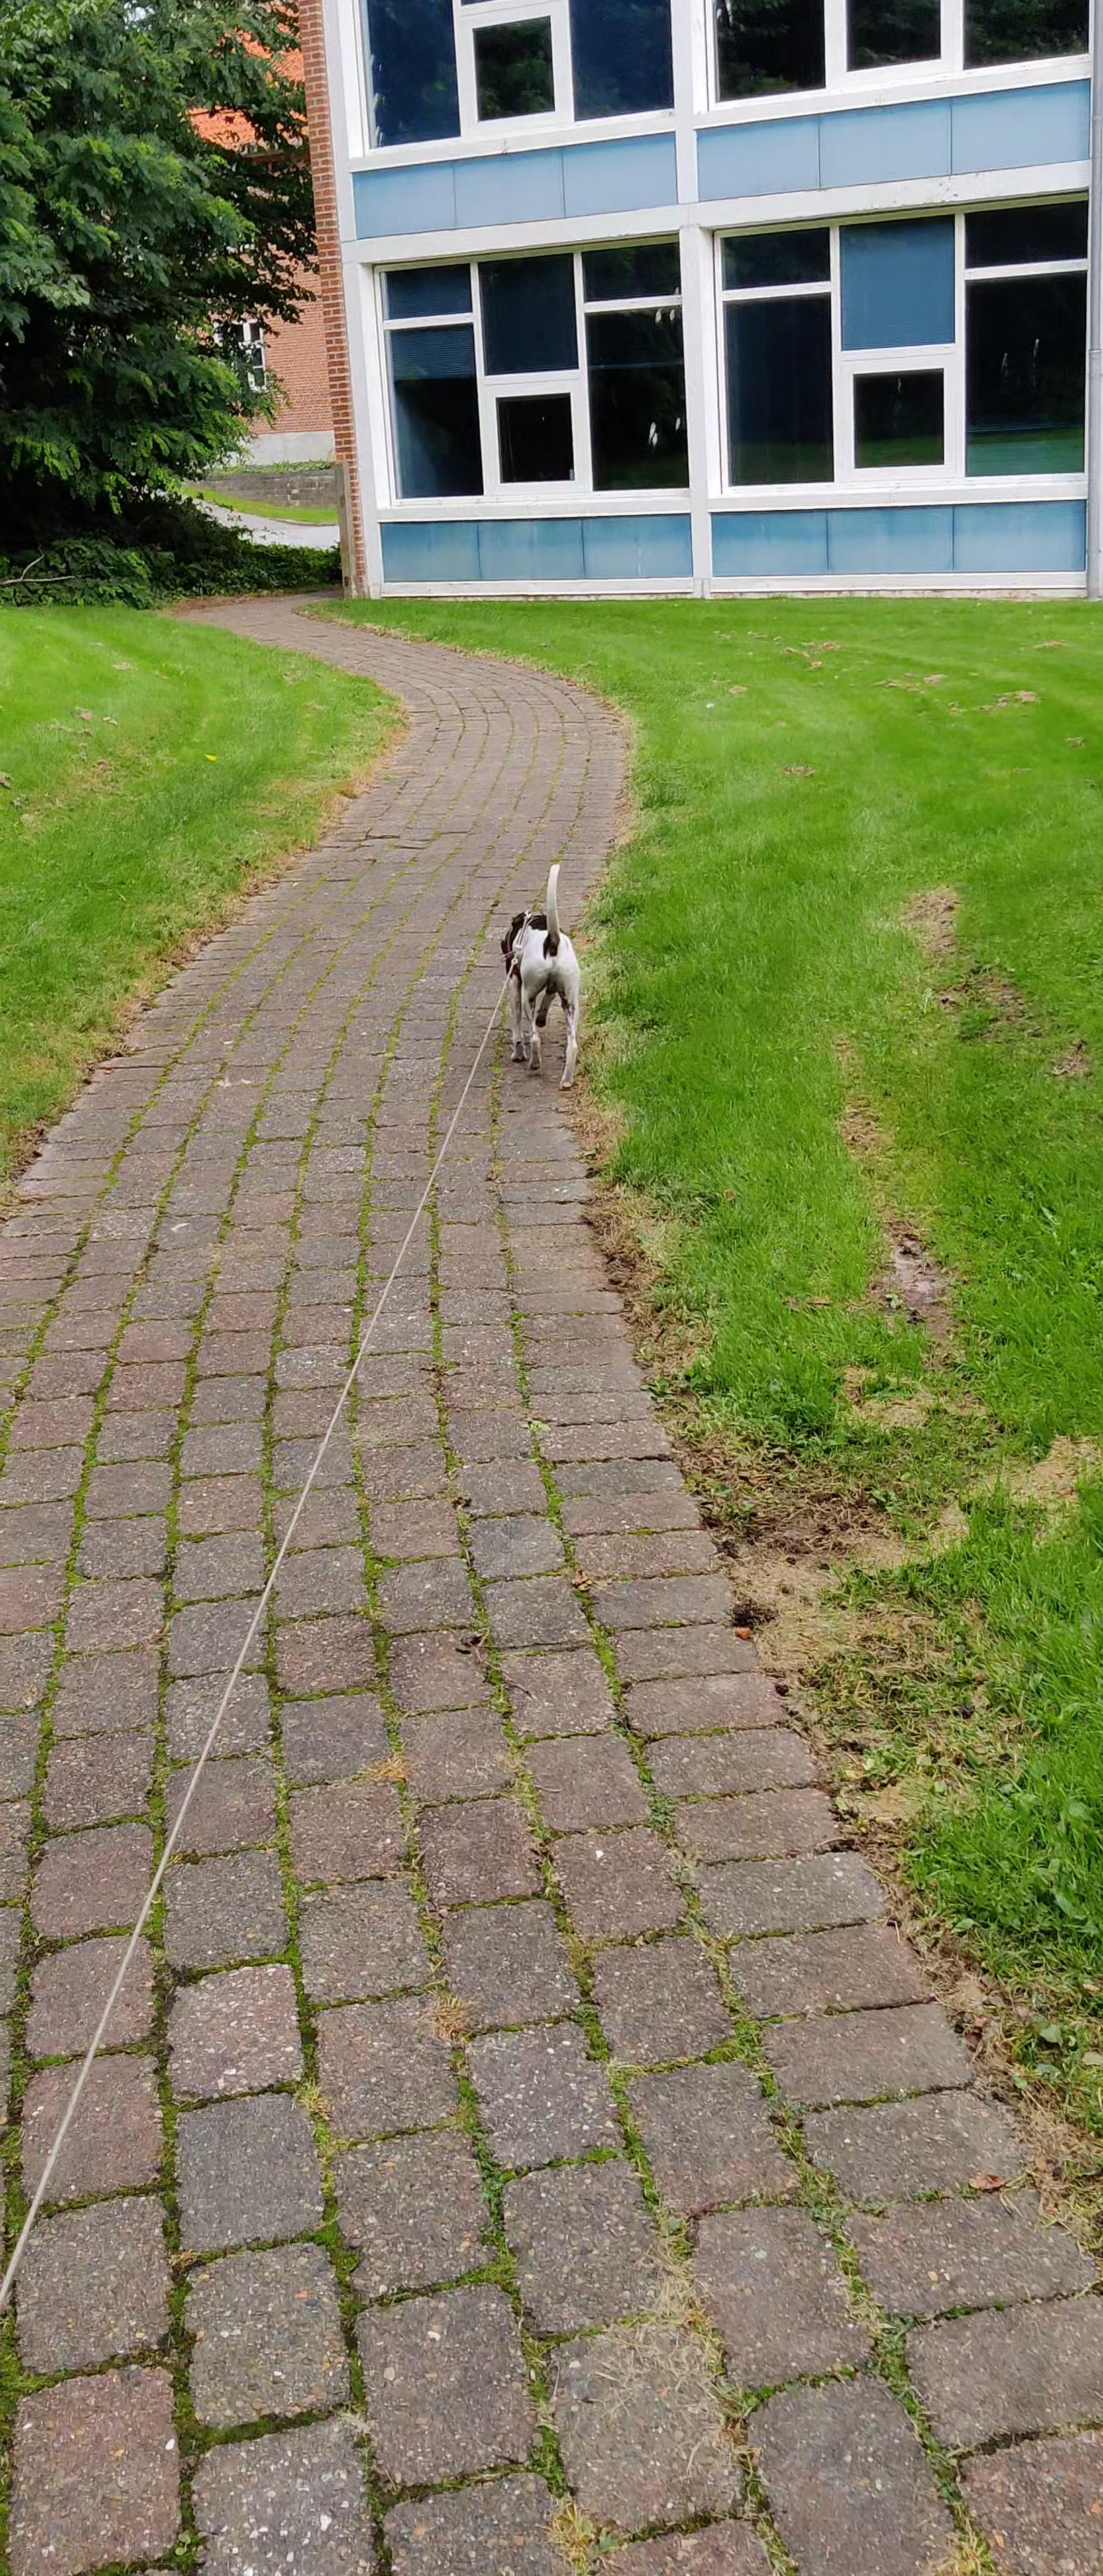Dog: (495, 861, 587, 1096)
